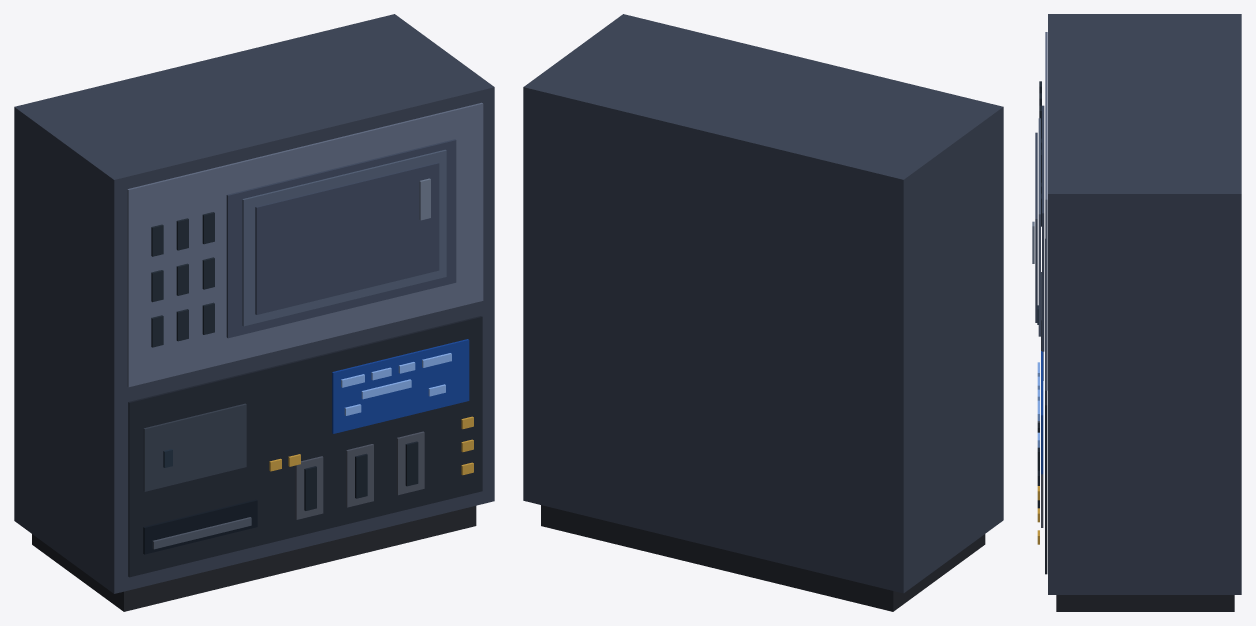
The model's file is CMU3DBlueTelecomServer.glb.
3 views of the same model, side by side, from view 1: azimuth 30°, elevation 25°; view 2: azimuth 150°, elevation 25°; view 3: azimuth 270°, elevation 25° (orthographic). The views are drawn at different scales.
Visible parts, largest first — view 1: telecom blue cabinet, lower cabinet field, upper cabinet bevel, upper hatch inset, telecom foot, upper recessed panel, server illuminated blue display, lower left drive, upper hatch trim, vertical lower module (×3), drive lower slot, drive rim; view 2: telecom blue cabinet, telecom foot; view 3: telecom blue cabinet, telecom foot, upper cabinet bevel, upper recessed panel, lower cabinet field, upper hatch trim, upper hatch inset, server illuminated blue display.
Part boxes in pixels (box(x1,y1,x2,y2)): telecom blue cabinet: box(14, 14, 494, 593); lower cabinet field: box(128, 316, 482, 577); upper cabinet bevel: box(127, 102, 483, 387); upper hatch inset: box(255, 162, 439, 314); telecom foot: box(32, 506, 476, 611); upper recessed panel: box(226, 139, 456, 338); server illuminated blue display: box(332, 339, 469, 433); lower left drive: box(143, 403, 246, 491); upper hatch trim: box(242, 149, 446, 326); vertical lower module (×3): box(295, 431, 424, 519); drive lower slot: box(143, 499, 257, 554); drive rim: box(152, 517, 251, 549); telecom blue cabinet: box(523, 14, 1003, 593); telecom foot: box(541, 505, 985, 611); telecom blue cabinet: box(1048, 14, 1241, 594); telecom foot: box(1056, 595, 1234, 611); upper cabinet bevel: box(1045, 32, 1047, 390); upper recessed panel: box(1042, 105, 1044, 351); lower cabinet field: box(1045, 239, 1047, 574); upper hatch trim: box(1038, 118, 1040, 336); upper hatch inset: box(1035, 132, 1037, 322); server illuminated blue display: box(1041, 351, 1043, 474).
Bounding box in the file's own units: 1 × 1.1 × 0.492.
